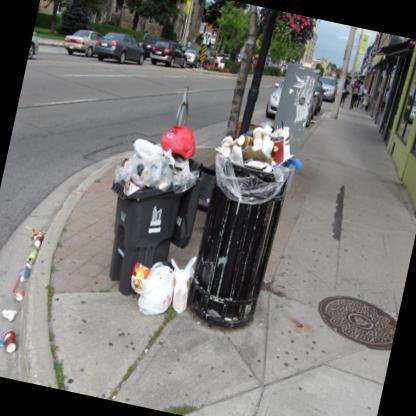Garbage: (214, 102, 310, 176), (118, 257, 172, 324), (8, 222, 48, 311), (116, 147, 172, 201), (112, 132, 162, 188), (162, 254, 200, 320), (258, 118, 296, 164), (158, 116, 200, 154), (0, 296, 25, 359), (163, 158, 203, 193), (222, 137, 255, 162), (279, 152, 304, 174)
